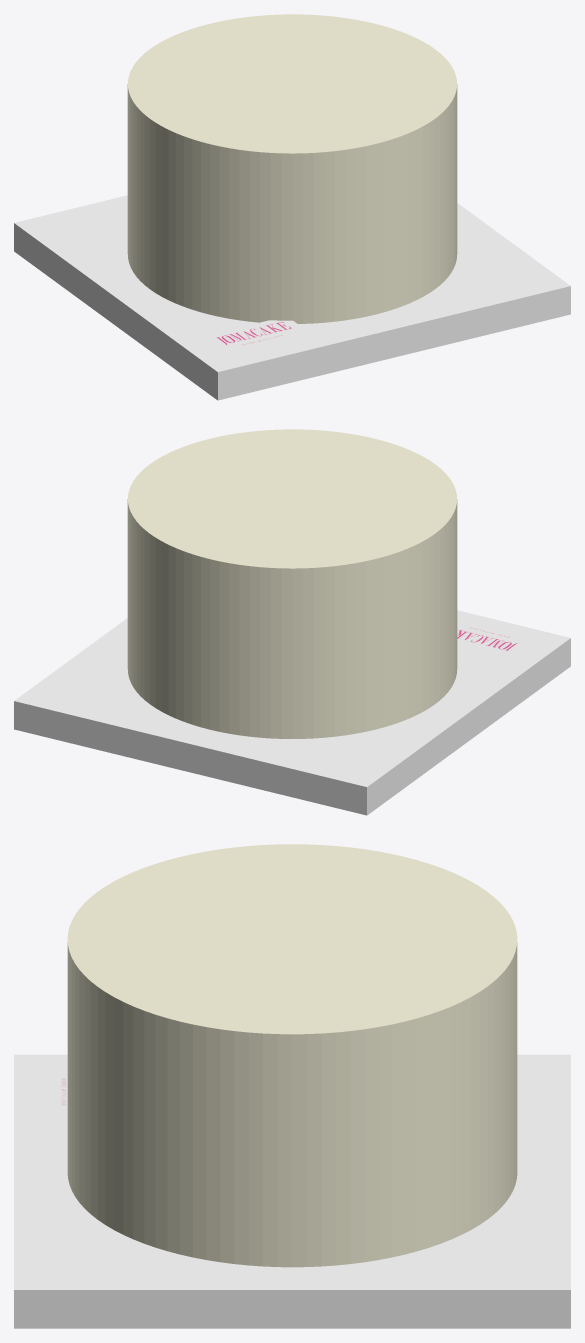
The model's file is cake_8in_layers3_v41.glb.
3 views of the same model, one above another, from view 1: azimuth 30°, elevation 25°; view 2: azimuth 150°, elevation 25°; view 3: azimuth 270°, elevation 25° (orthographic). The views are drawn at different scales.
Visible parts, largest first — view 1: Cake, Board, Logo; view 2: Cake, Board, Logo; view 3: Cake, Board, Logo.
Boxes of the visible parts, x1=… form: Cake: x1=127, y1=14, x2=457, y2=323; Board: x1=14, y1=195, x2=570, y2=400; Logo: x1=202, y1=320, x2=310, y2=354; Cake: x1=127, y1=429, x2=457, y2=738; Board: x1=14, y1=610, x2=570, y2=815; Logo: x1=457, y1=619, x2=537, y2=656; Cake: x1=67, y1=844, x2=517, y2=1267; Board: x1=14, y1=1054, x2=570, y2=1328; Logo: x1=47, y1=1064, x2=67, y2=1120.
Bounding box in the file's own units: 0.26 × 0.14 × 0.26.
